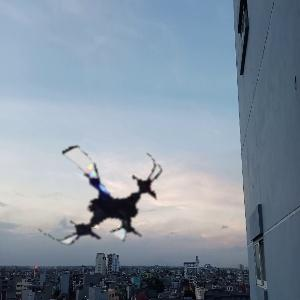drone: (32, 128, 169, 265)
